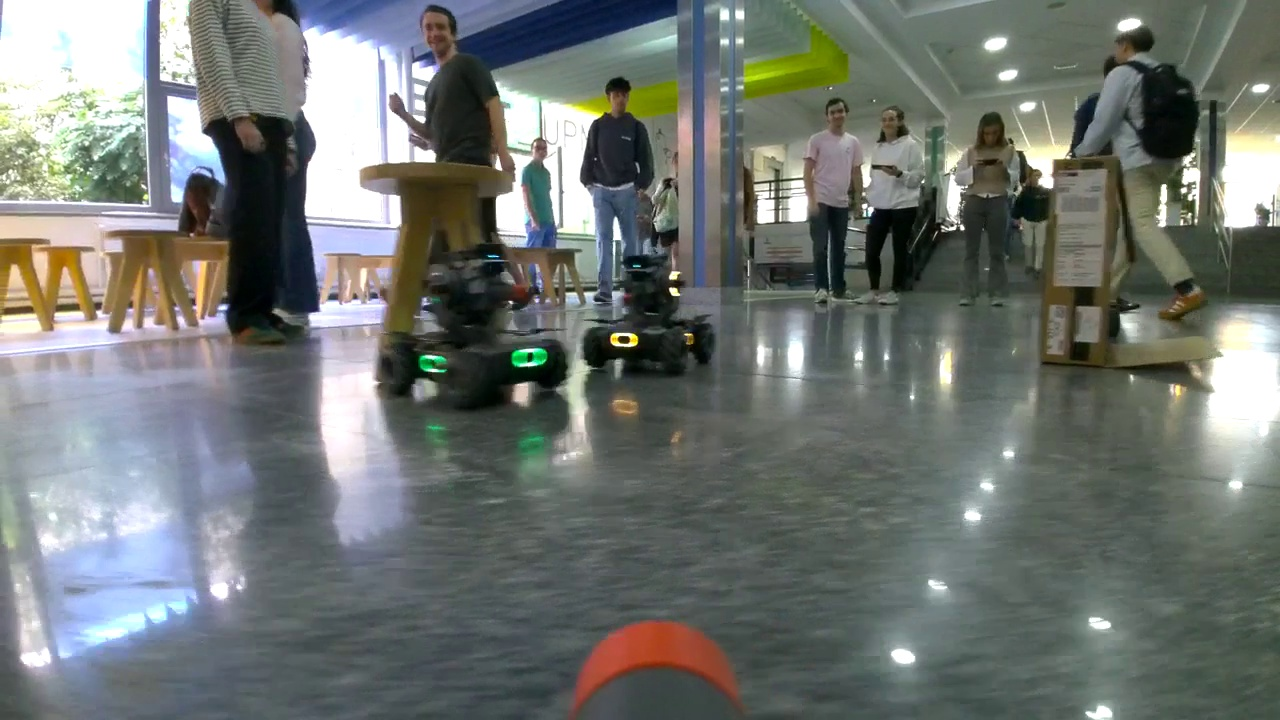robot: (360, 246, 576, 412), (579, 250, 724, 370)
